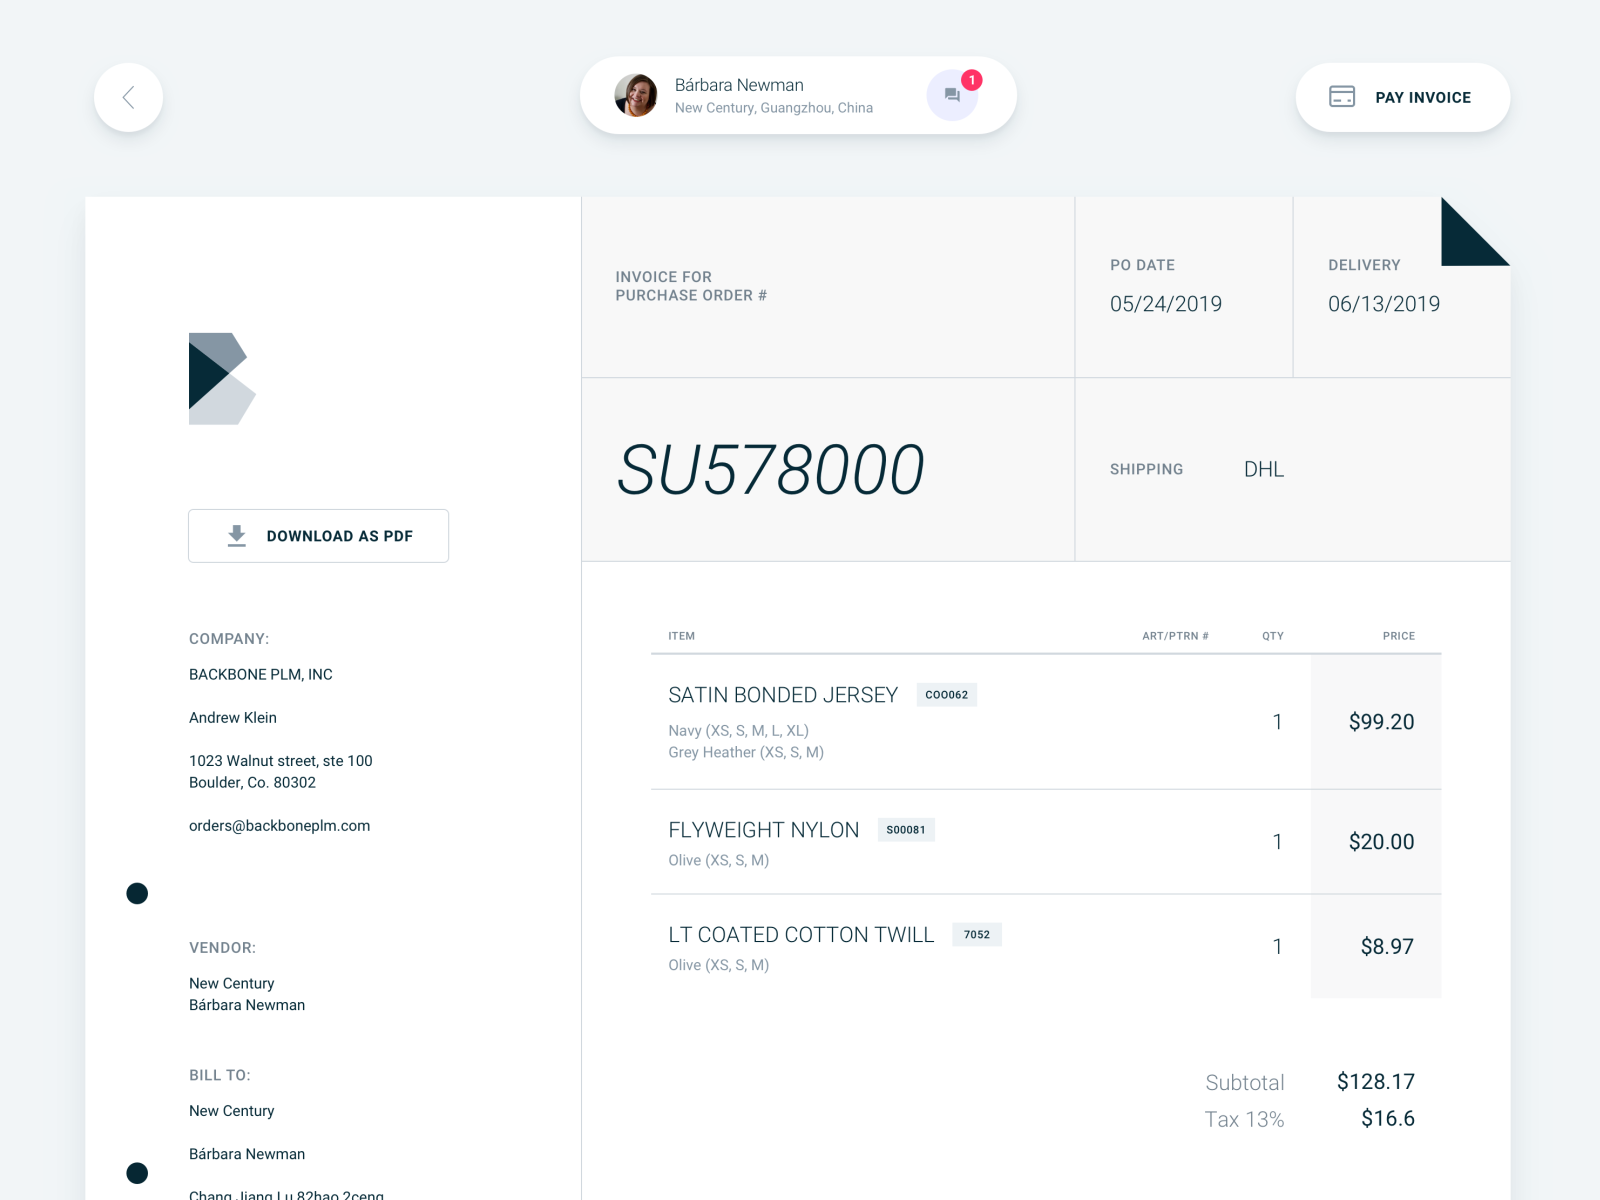block: (83, 197, 581, 1200), (582, 197, 1512, 561), (581, 55, 1019, 135)
button: (1296, 61, 1514, 134), (189, 508, 450, 563)
icon: (96, 63, 165, 131), (925, 68, 981, 120), (1322, 76, 1364, 120), (118, 1157, 157, 1191), (118, 876, 154, 913), (219, 521, 254, 555)
image: (181, 325, 257, 435), (614, 73, 659, 115)
table: (581, 561, 1512, 1200)
